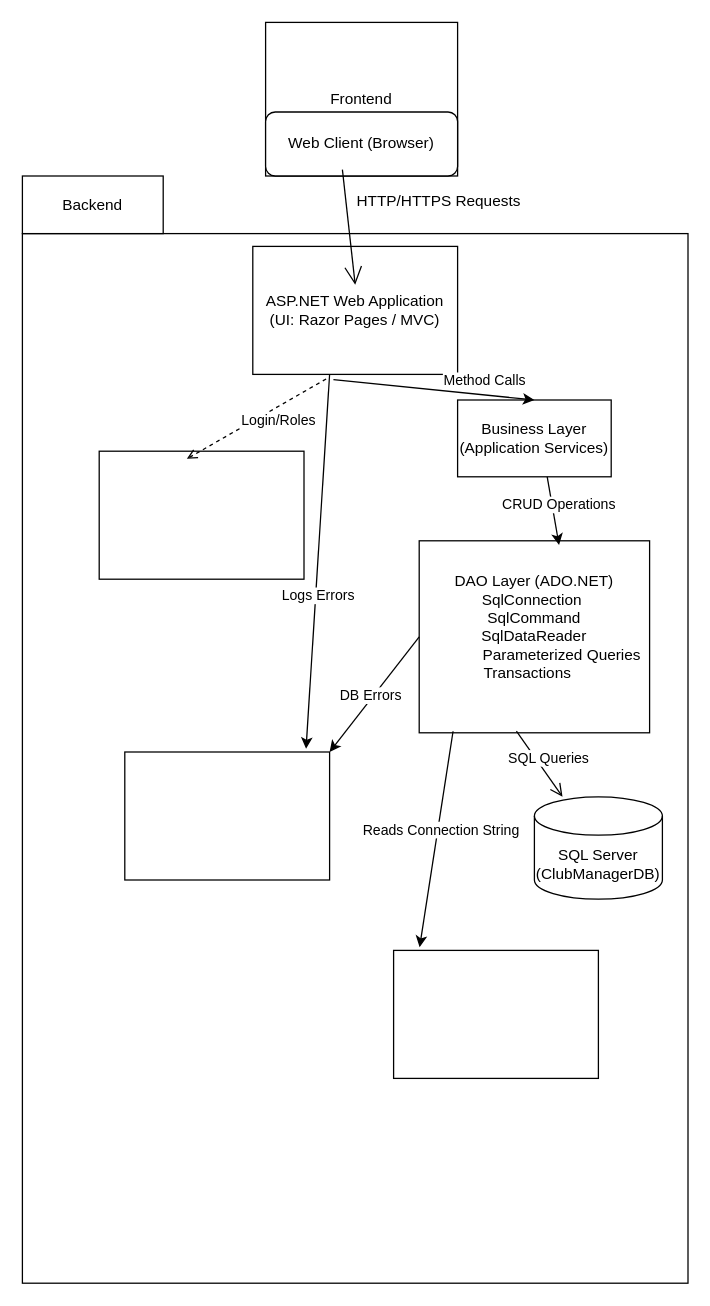
Some shapes in this 710 by 1306 pixel diagram are drawn without their labels. Here are the shapes that lost their labels. From the top down, the centre of each, then its label:
the point at 201,514: Auth Module (Authentication + Authorization)
the point at 227,815: Logging Error Logging + Audit
the point at 495,1013: Configuration appsettings.json Connection String
